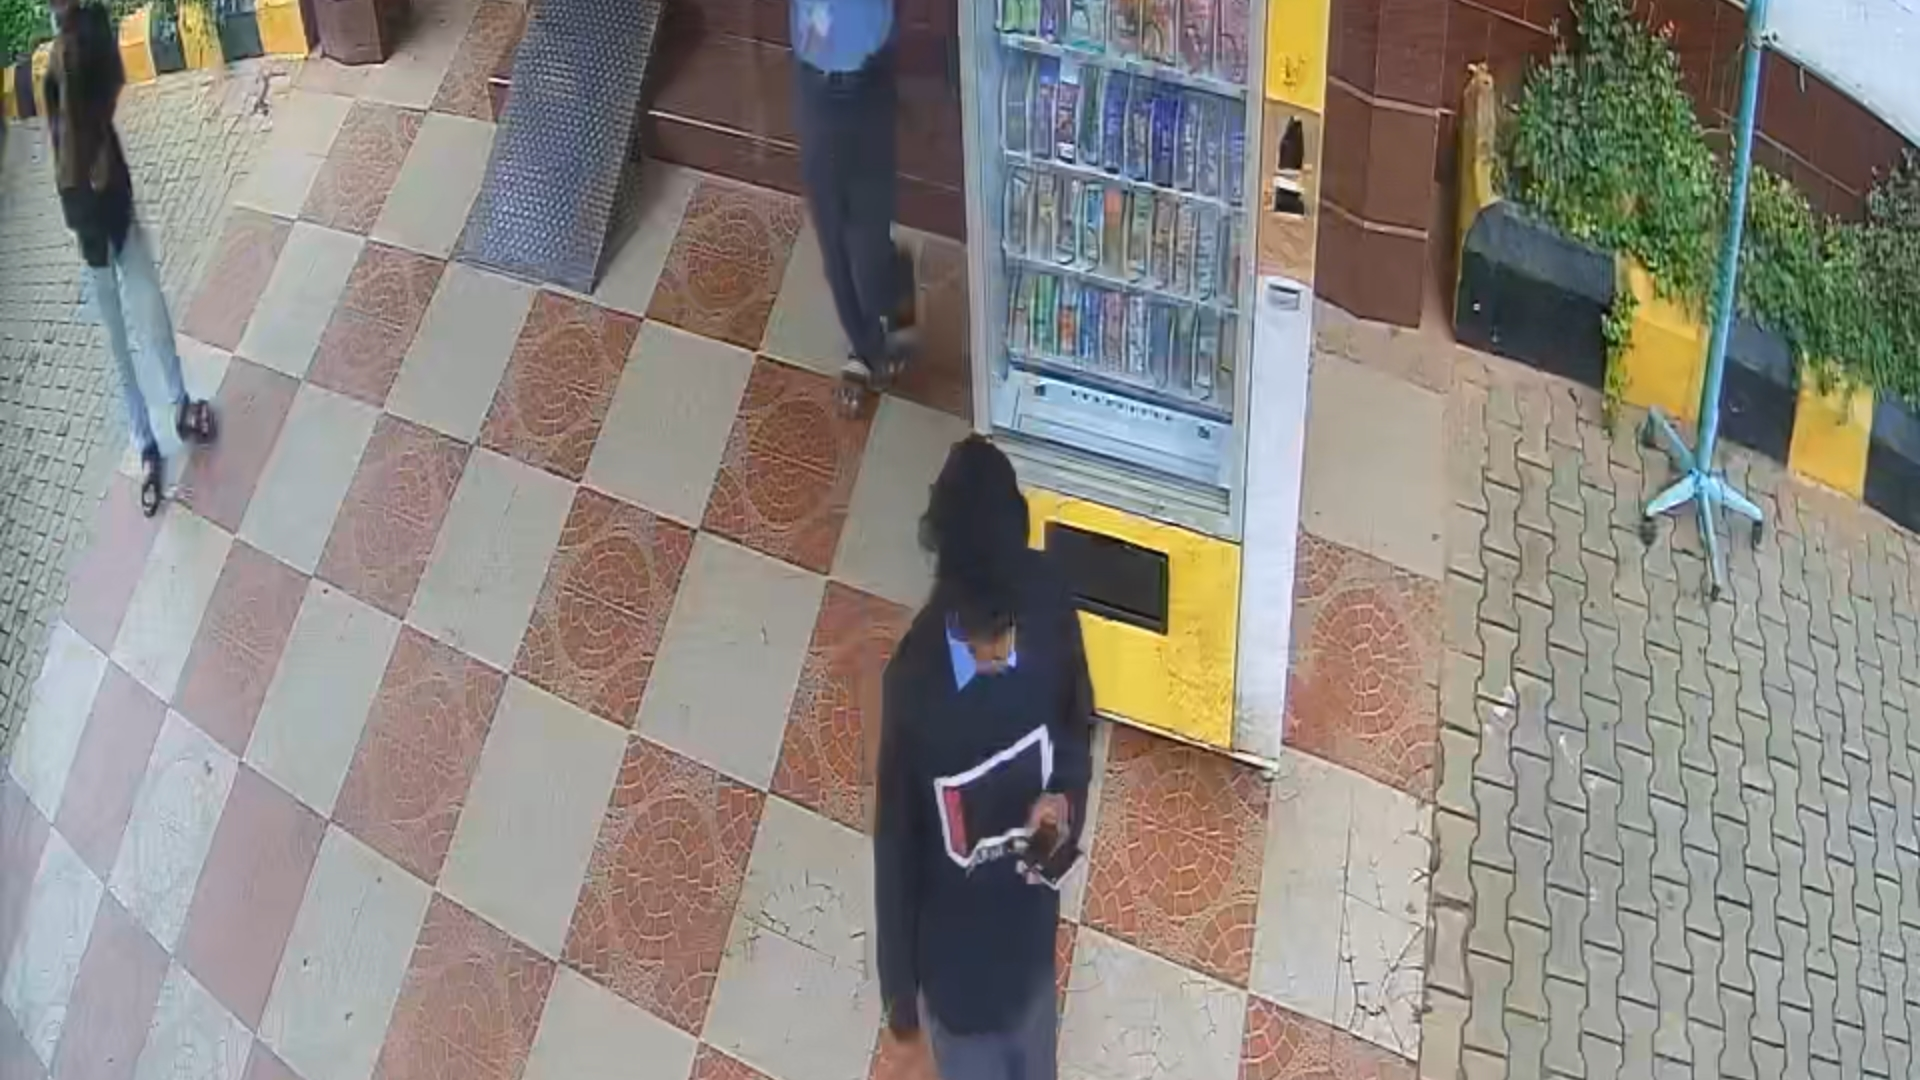intruder: (853, 419, 1135, 1080)
